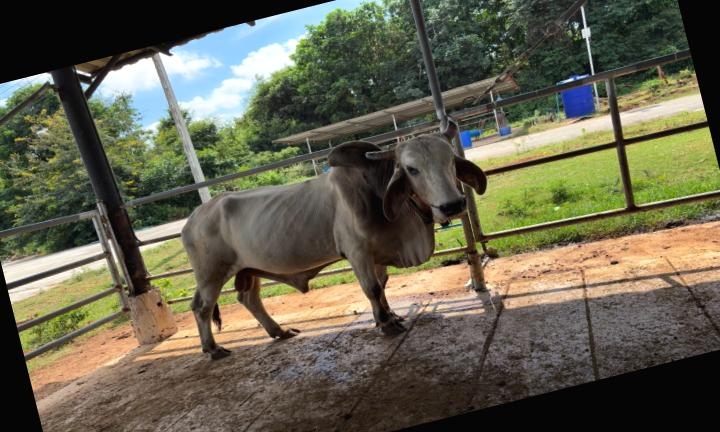Brahman: (181, 120, 486, 358)
